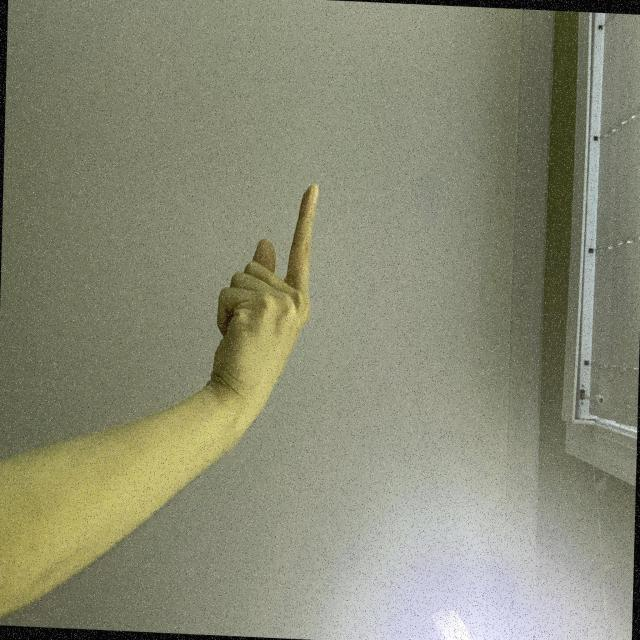G: (282, 423, 484, 584)
